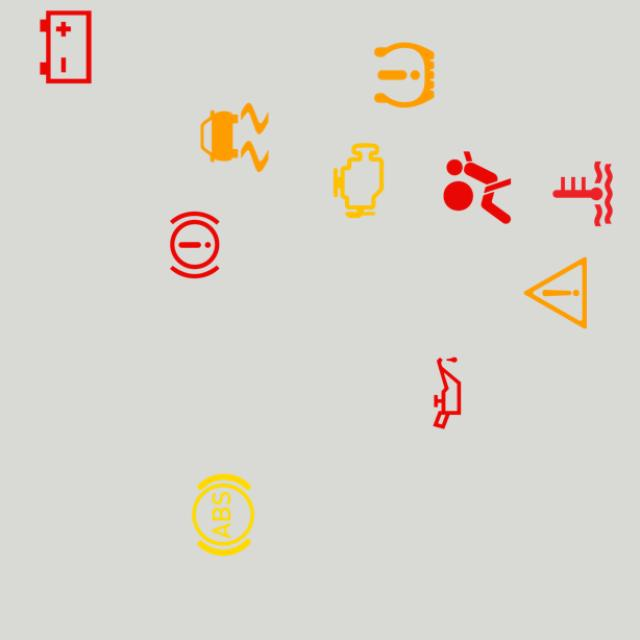Anti Lock Braking System: (178, 470, 268, 560)
Braking System Issue: (150, 200, 240, 290)
Charging System Issue: (21, 2, 110, 92)
Check Engine: (314, 136, 403, 225)
Electronic Stability Problem -ESP-: (190, 93, 279, 182)
Engine Overheating Warning Light: (538, 149, 627, 239)
Low Engine Oil Warning Light: (402, 348, 492, 438)
Low Tire Pressure Warning Light: (360, 30, 449, 120)
Master warning light: (511, 248, 600, 338)
SRS-Airbag: (433, 143, 522, 232)
